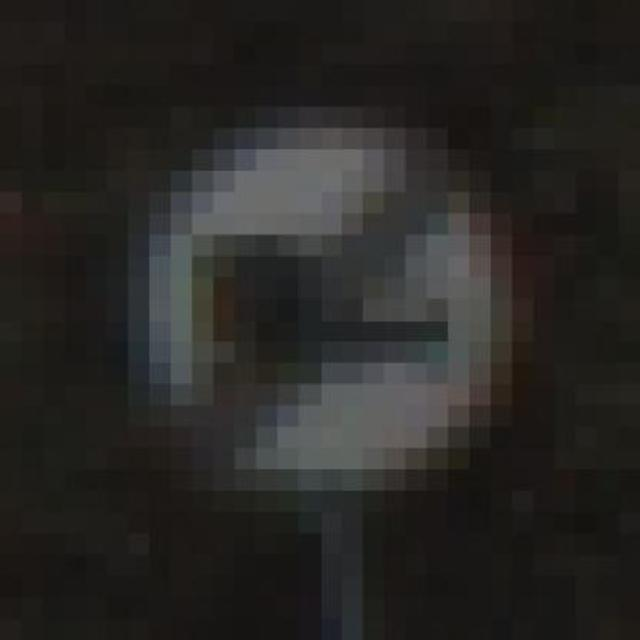Overtaking by trucks is prohibited: (107, 85, 555, 533)
